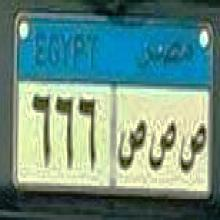6: (30, 94, 52, 166), (81, 97, 100, 170), (56, 95, 75, 164)
saad: (119, 117, 148, 170), (179, 122, 207, 172), (150, 121, 178, 169)
